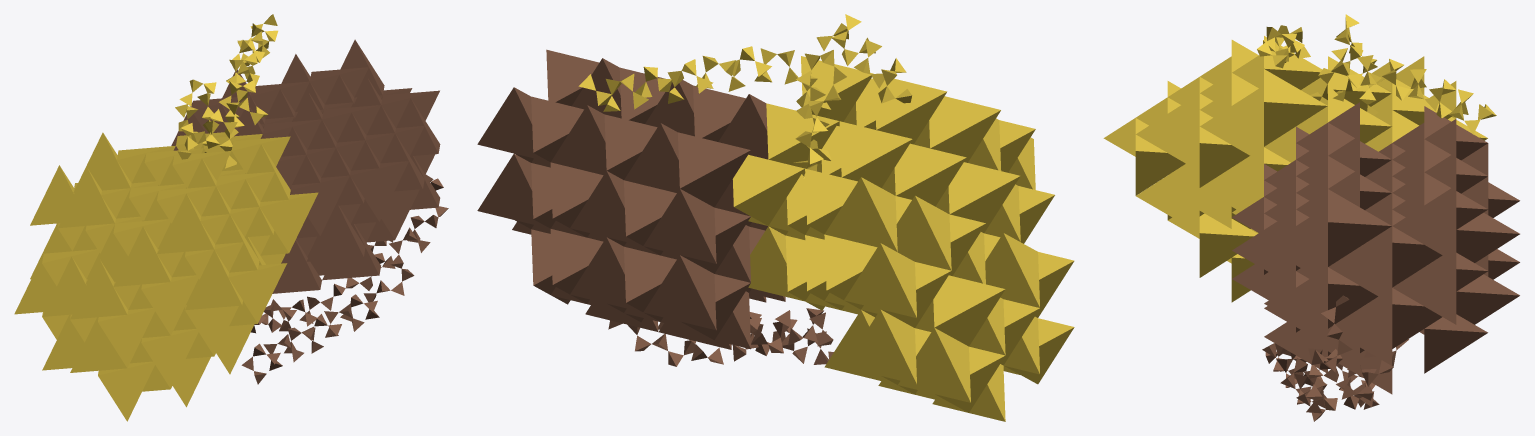
File: customMassing_GProtein_240712_old.fbx
The picture shows the model from 3 angles, left to right: view 1: azimuth 30°, elevation 25°; view 2: azimuth 150°, elevation 25°; view 3: azimuth 270°, elevation 25°; orthographic projection. The views are drawn at different scales.
Parts seen in each view (by area): view 1: GAlpha, GBeta; view 2: GAlpha, GBeta; view 3: GBeta, GAlpha.
Boxes of the visible parts, box(x1,y1,x2,y2) form: GAlpha: box(14, 14, 318, 421); GBeta: box(171, 39, 448, 384); GAlpha: box(578, 14, 1074, 421); GBeta: box(477, 49, 833, 366); GBeta: box(1232, 102, 1519, 421); GAlpha: box(1103, 14, 1496, 302).
Bounding box in the file's own units: 3663 × 2580 × 2933.
